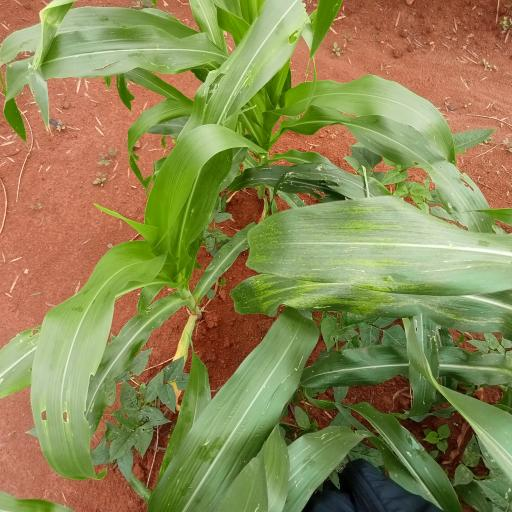Corn_Brown_Spots: (250, 196, 512, 322), (31, 235, 160, 490), (0, 0, 215, 97)
